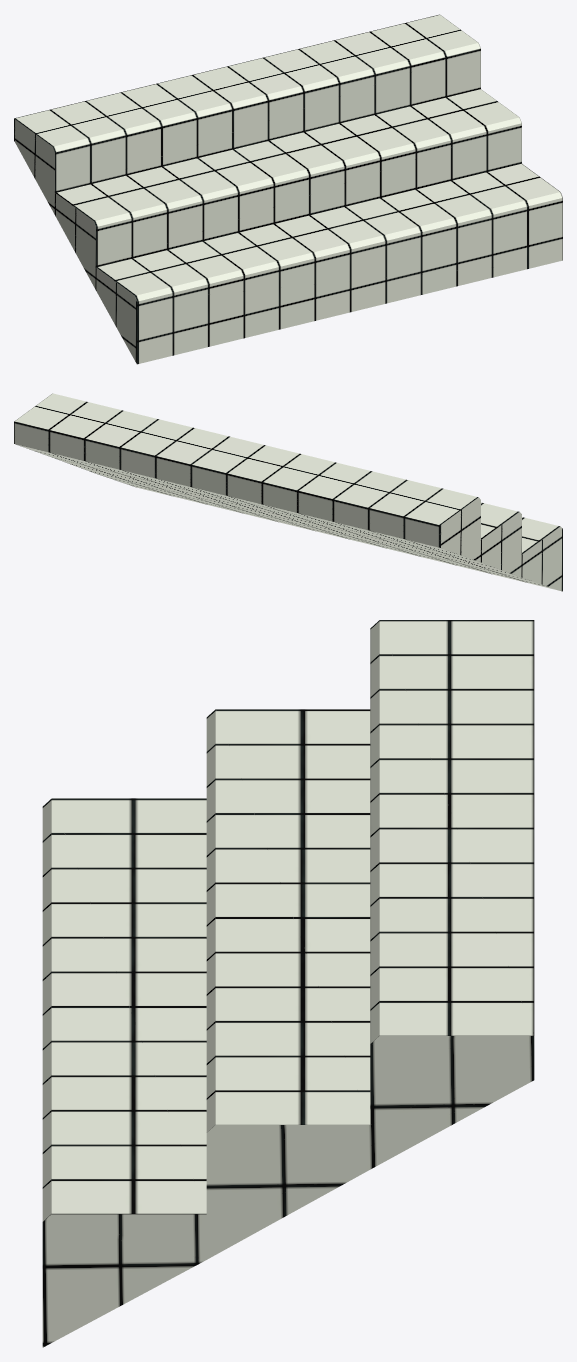
Rendered from Stairs.fbx.
3 renders of one model, top to bottom at view 1: azimuth 30°, elevation 25°; view 2: azimuth 150°, elevation 25°; view 3: azimuth 270°, elevation 25°, orthographic. The views are drawn at different scales.
Parts seen in each view (by area): view 1: Stairs; view 2: Stairs; view 3: Stairs.
Boxes of the visible parts, box(x1,y1,x2,y2) form: Stairs: box(14, 14, 562, 364); Stairs: box(14, 393, 562, 591); Stairs: box(42, 620, 534, 1347).
Size of the model in its own units: 200 by 70 by 100.
